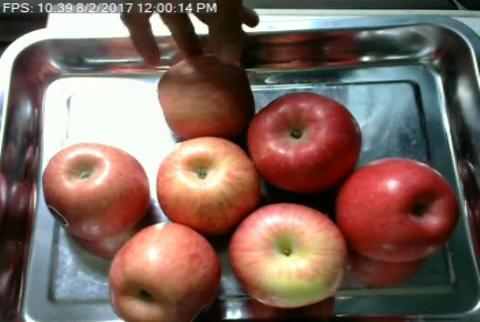apple: (338, 158, 456, 261), (230, 202, 344, 307), (109, 222, 223, 320), (246, 92, 361, 189), (42, 142, 147, 240), (156, 137, 257, 235), (158, 56, 255, 137)
